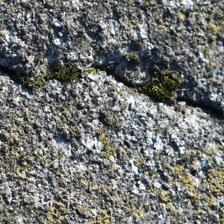Crack: (50, 28, 171, 96)
